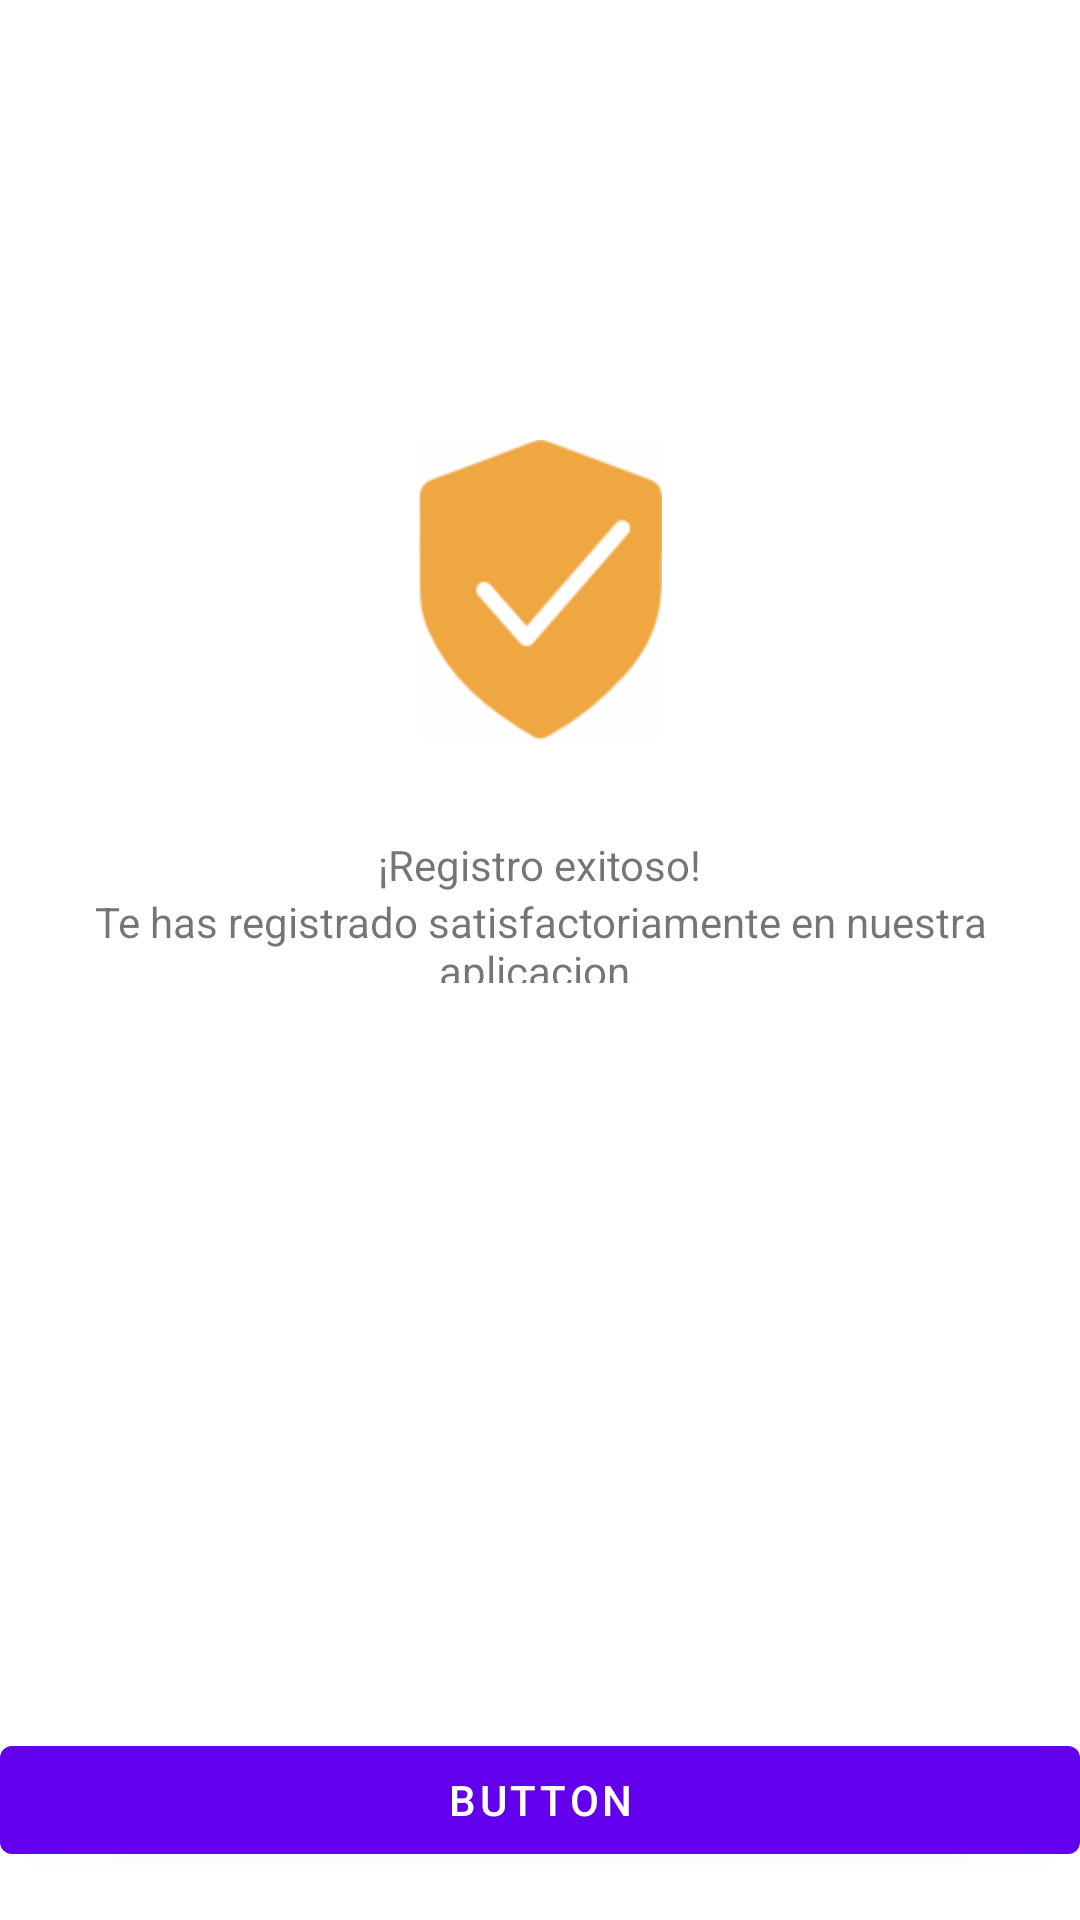

Named icons in this screenshot (1080 × 1920) and their centers, (x,y):
success: (540,590)
